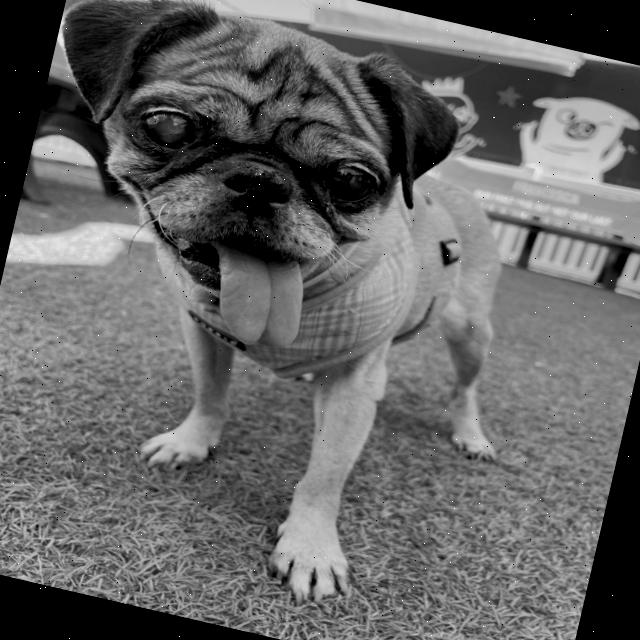pug_dog: (3, 0, 487, 390)
